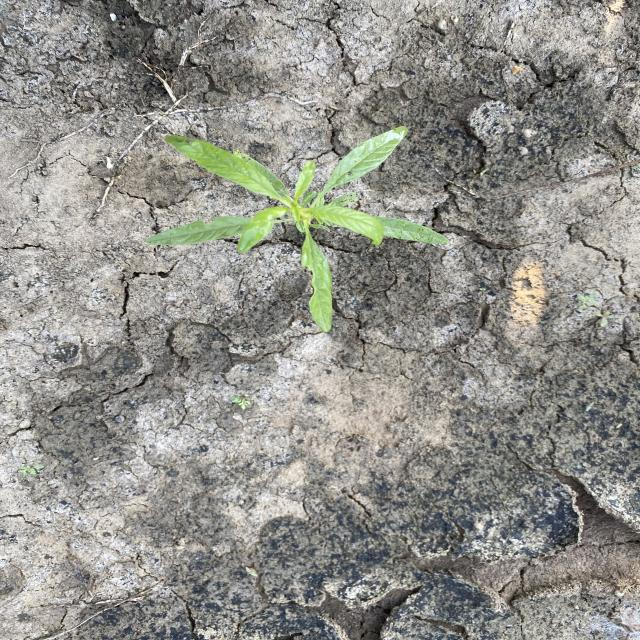Waterhemp: (144, 124, 452, 333)
